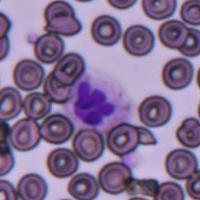N: (64, 71, 132, 129)
